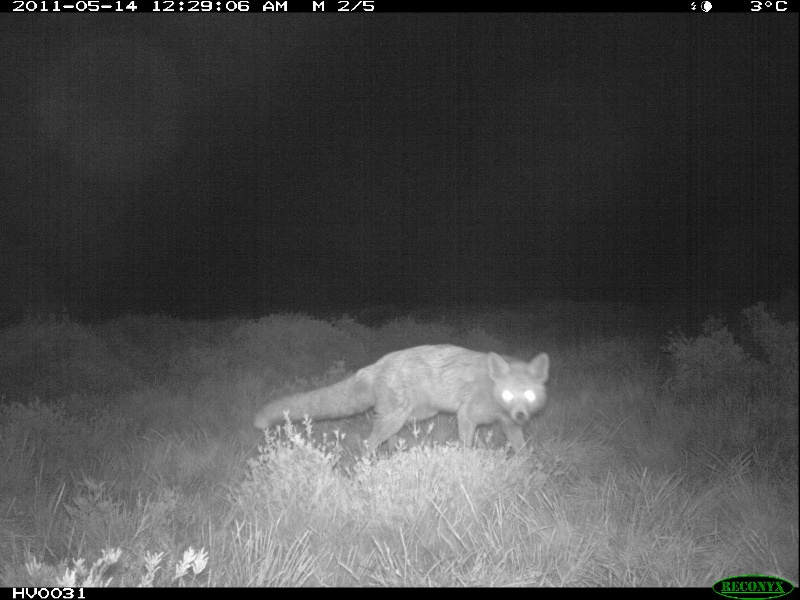fox: (256, 344, 555, 463)
